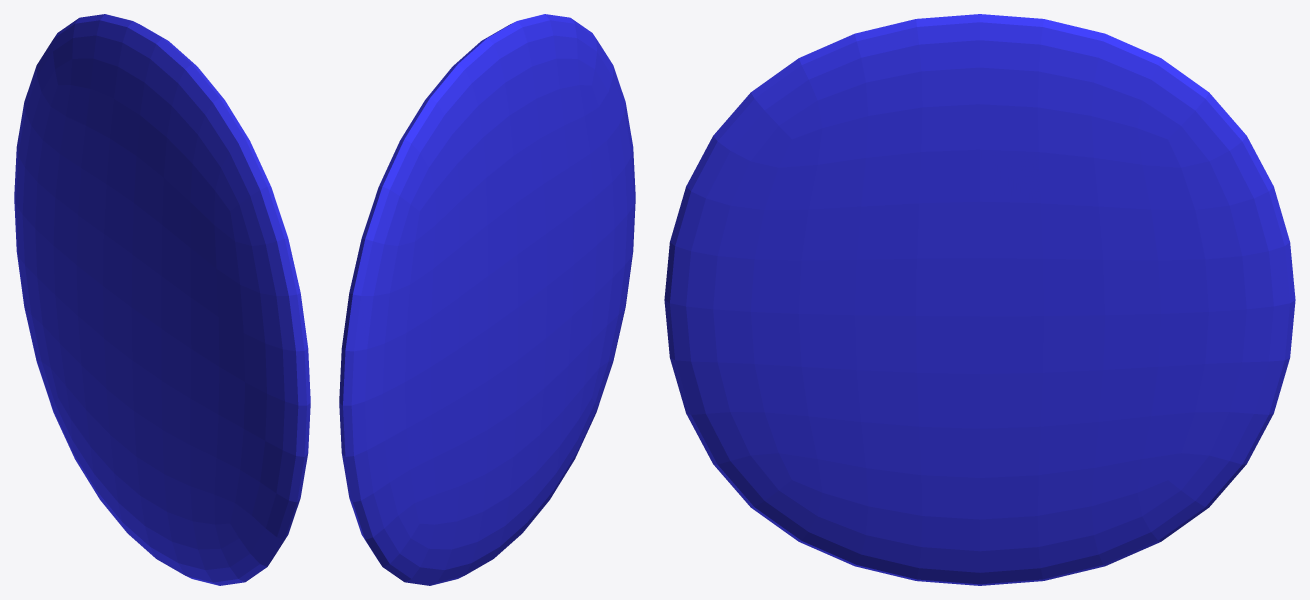
Rendered from powerCoinBlue.fbx.
The picture shows the model from 3 angles, left to right: view 1: azimuth 30°, elevation 25°; view 2: azimuth 150°, elevation 25°; view 3: azimuth 270°, elevation 25°; orthographic projection. The views are drawn at different scales.
Parts seen in each view (by area): view 1: Cube; view 2: Cube; view 3: Cube.
Part boxes in pixels (bbox=[...]): Cube: bbox=[14, 14, 310, 585]; Cube: bbox=[339, 14, 635, 585]; Cube: bbox=[664, 14, 1295, 585].
Bounding box in the file's own units: 2.06 × 16.79 × 16.79.
Materials: 1 (1 with a texture image).
